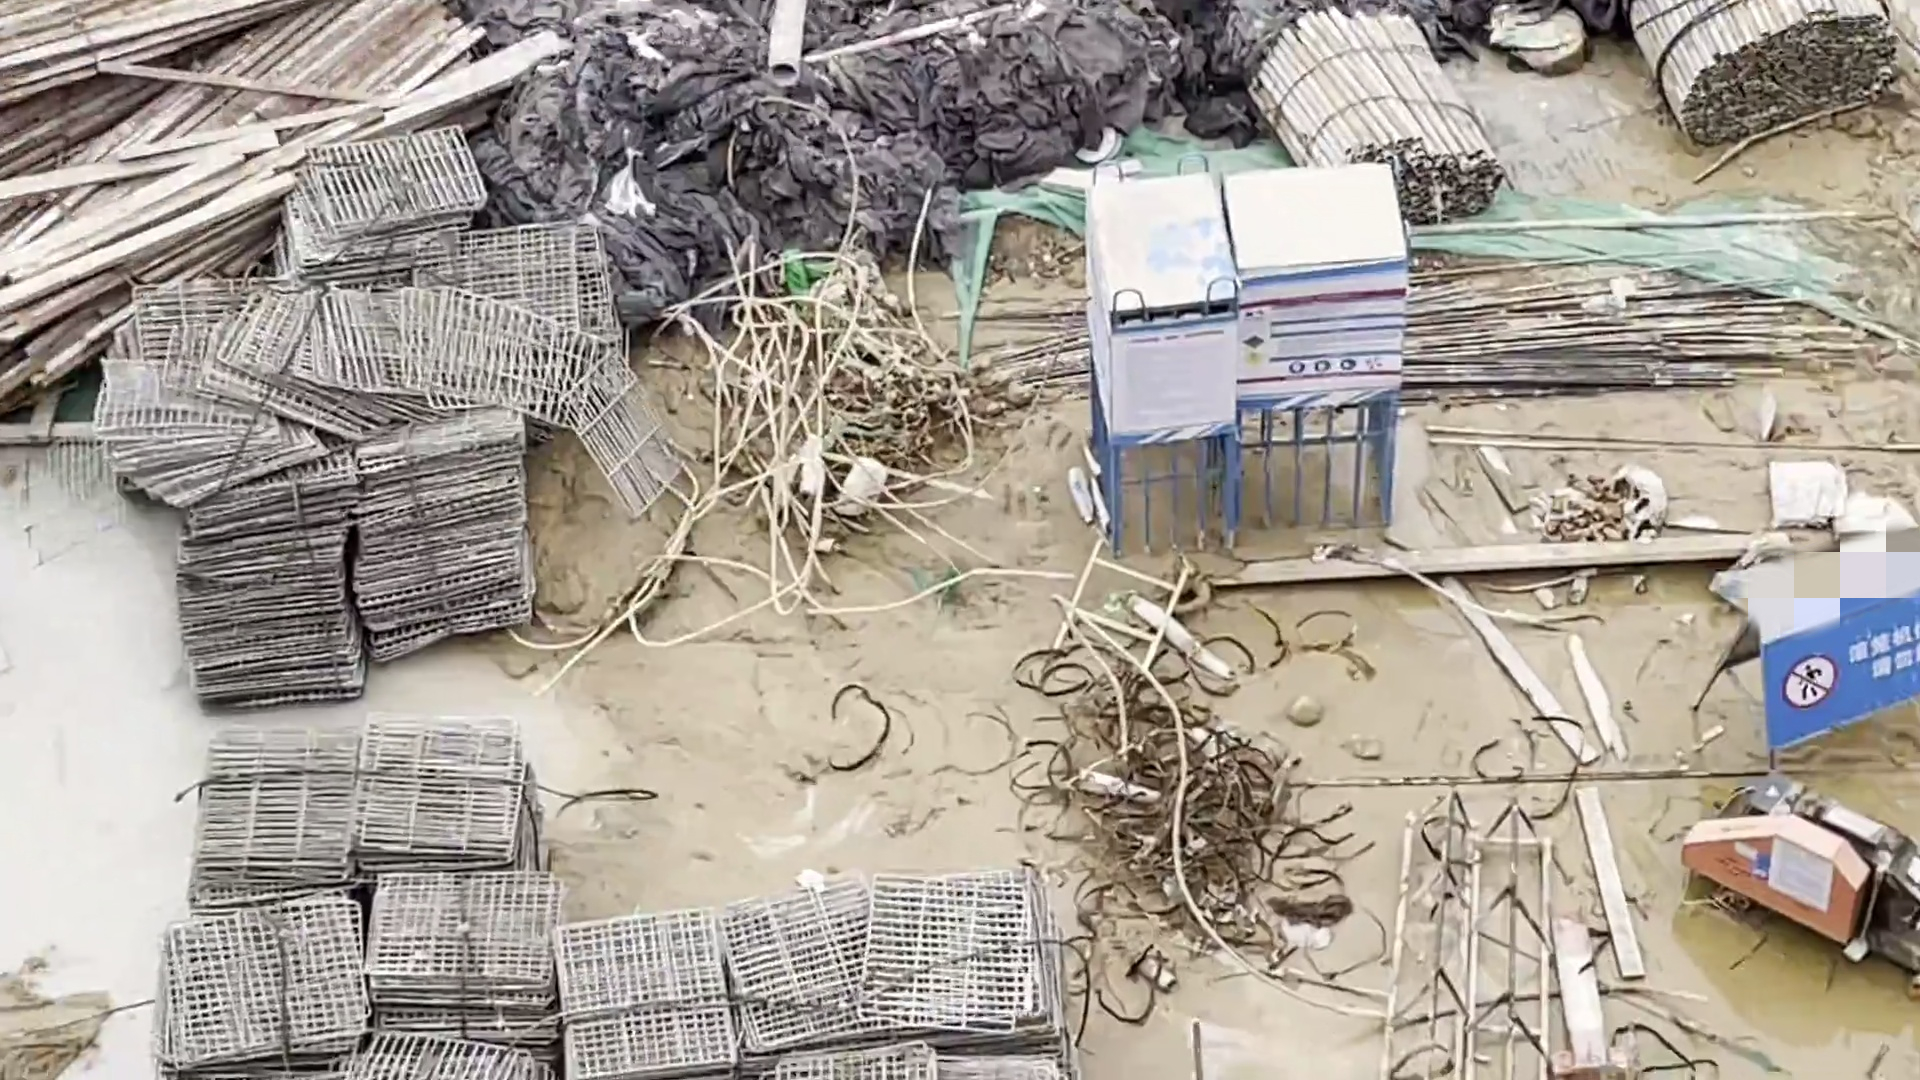slogan: (1772, 601, 1920, 735)
wood: (7, 7, 555, 356)
